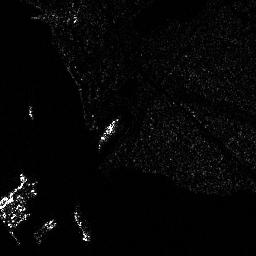ship: (72, 211, 91, 243), (98, 118, 119, 146)
